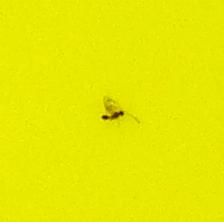Hymenoptera: (100, 100, 124, 122)
